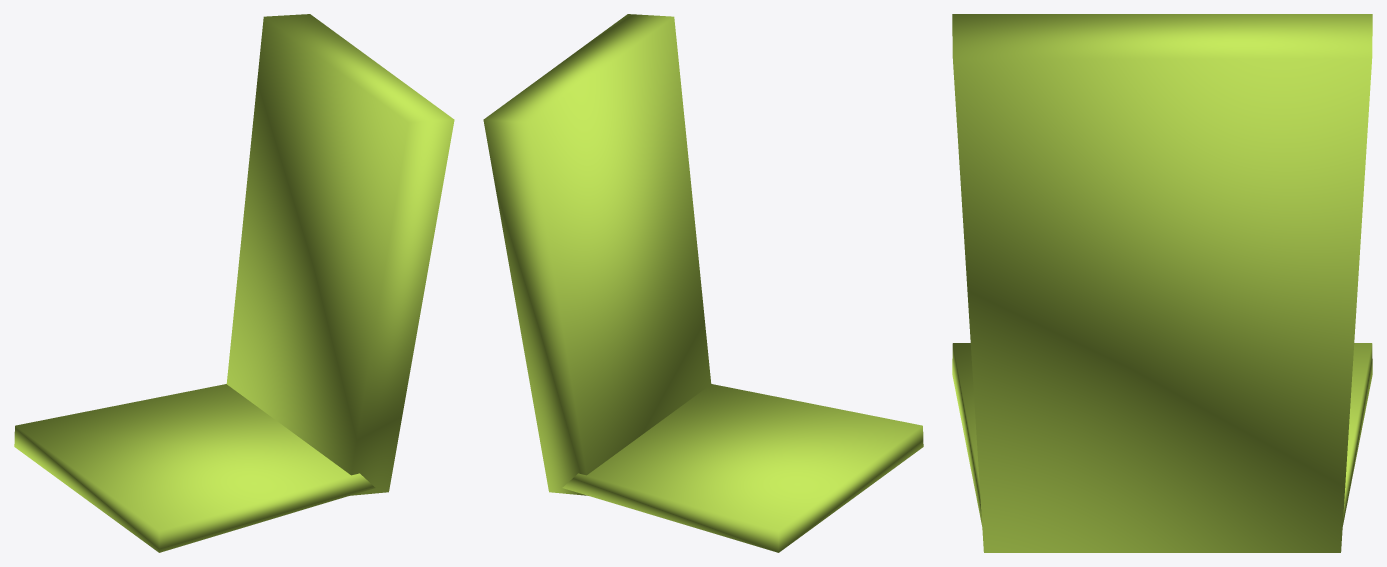
The model's file is chair_convex.fbx.
The picture shows the model from 3 angles, left to right: view 1: azimuth 30°, elevation 25°; view 2: azimuth 150°, elevation 25°; view 3: azimuth 270°, elevation 25°; orthographic projection. The views are drawn at different scales.
Visible parts, largest first — view 1: chair_convex.001, chair_convex; view 2: chair_convex.001, chair_convex; view 3: chair_convex.001, chair_convex.
Part boxes in pixels (x1,y1,x2,y2): chair_convex.001: (226, 14, 454, 495); chair_convex: (14, 384, 375, 552); chair_convex.001: (483, 14, 711, 495); chair_convex: (562, 384, 923, 552); chair_convex.001: (952, 14, 1372, 552); chair_convex: (952, 343, 1372, 526).
Size of the model in its own units: 16.22 by 13.77 by 19.69.
